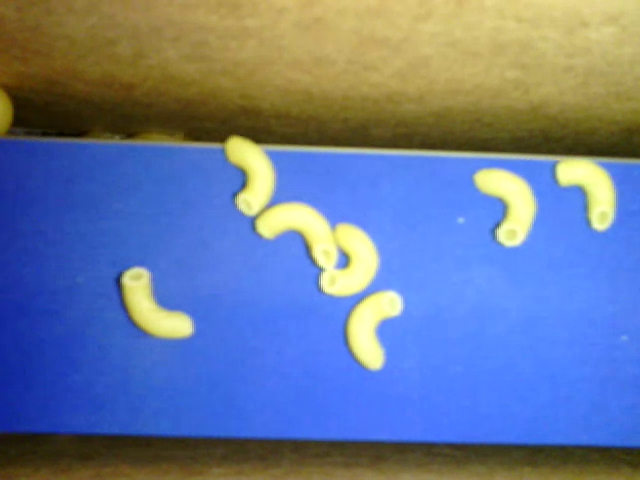elbow: (117, 265, 197, 342), (342, 286, 411, 374), (253, 200, 339, 267), (473, 166, 538, 248), (320, 220, 380, 300), (556, 158, 619, 234), (223, 136, 276, 218)
